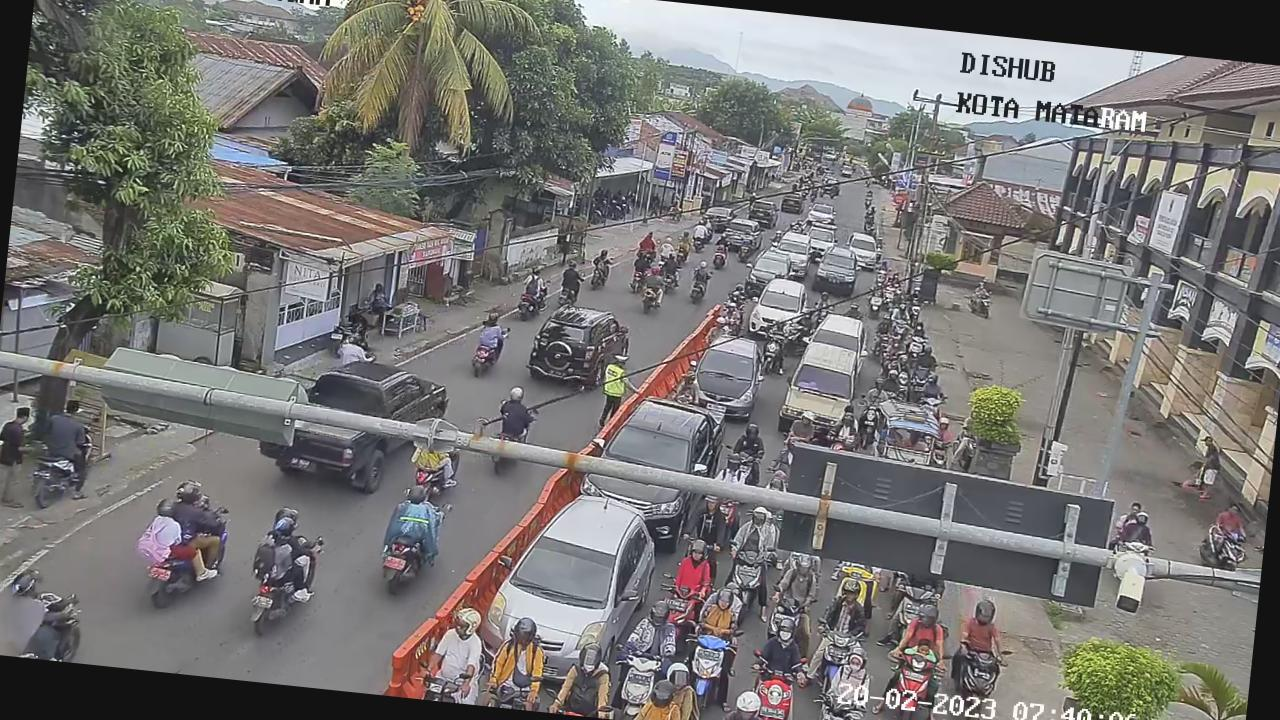car: (484, 468, 665, 668), (276, 346, 456, 503), (573, 384, 727, 541), (520, 295, 638, 396), (776, 334, 864, 441), (680, 322, 769, 422), (746, 268, 814, 344), (804, 302, 878, 368), (812, 242, 862, 296), (746, 244, 796, 292), (774, 226, 814, 278), (718, 212, 763, 258), (844, 226, 880, 272), (803, 222, 840, 264), (808, 205, 836, 224)
motorcycle: (943, 637, 1010, 720), (676, 621, 741, 706), (804, 622, 864, 700), (606, 644, 664, 720), (879, 646, 937, 720), (740, 655, 804, 720), (885, 578, 943, 646), (719, 546, 774, 616), (654, 578, 704, 638), (766, 592, 814, 646), (806, 685, 873, 720), (1214, 523, 1252, 573), (853, 402, 882, 454), (758, 332, 785, 378), (919, 394, 948, 424), (908, 368, 930, 401), (862, 288, 886, 318), (906, 332, 929, 360), (976, 290, 996, 322), (890, 317, 910, 341), (908, 304, 924, 326), (873, 266, 889, 286)
person: (32, 406, 100, 494), (154, 472, 224, 554), (550, 635, 618, 719), (426, 602, 486, 696), (249, 502, 315, 584), (377, 476, 444, 556), (485, 614, 547, 700), (817, 639, 878, 720), (748, 612, 812, 688), (621, 594, 682, 670), (888, 596, 951, 666), (954, 594, 1014, 664), (691, 575, 750, 646), (820, 578, 874, 646), (665, 533, 716, 600), (772, 549, 826, 612), (639, 668, 693, 720), (730, 503, 782, 556), (493, 384, 538, 443), (472, 303, 514, 363), (688, 492, 732, 548), (822, 404, 862, 456), (1112, 500, 1157, 545), (732, 422, 772, 464), (714, 444, 750, 488), (783, 408, 817, 450), (1211, 498, 1247, 535), (926, 412, 958, 451), (518, 262, 549, 302), (860, 373, 890, 412), (763, 312, 790, 348), (919, 371, 947, 404), (588, 243, 614, 278), (558, 258, 584, 292), (703, 312, 729, 342), (690, 258, 714, 288), (659, 250, 683, 278), (880, 368, 904, 396), (811, 288, 836, 314), (644, 264, 665, 294), (720, 296, 742, 324), (636, 227, 658, 254), (632, 247, 652, 275), (728, 282, 751, 306), (674, 226, 694, 253), (918, 344, 938, 371), (842, 298, 864, 322), (657, 234, 677, 260), (690, 218, 711, 242), (909, 316, 929, 341), (891, 298, 910, 323), (876, 312, 894, 336), (714, 230, 731, 253), (905, 285, 924, 304), (973, 278, 990, 298), (870, 280, 886, 300), (890, 268, 902, 288), (876, 258, 890, 274)
